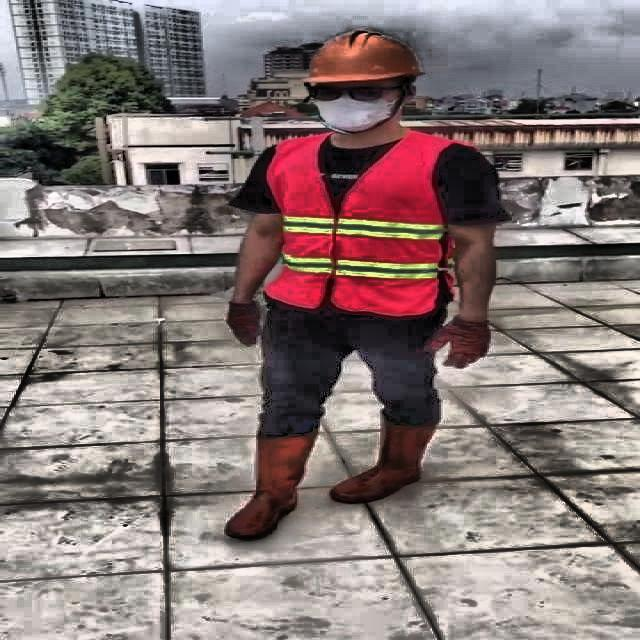safety_helmet: (304, 29, 427, 85)
safety_jacket: (263, 134, 452, 313)
